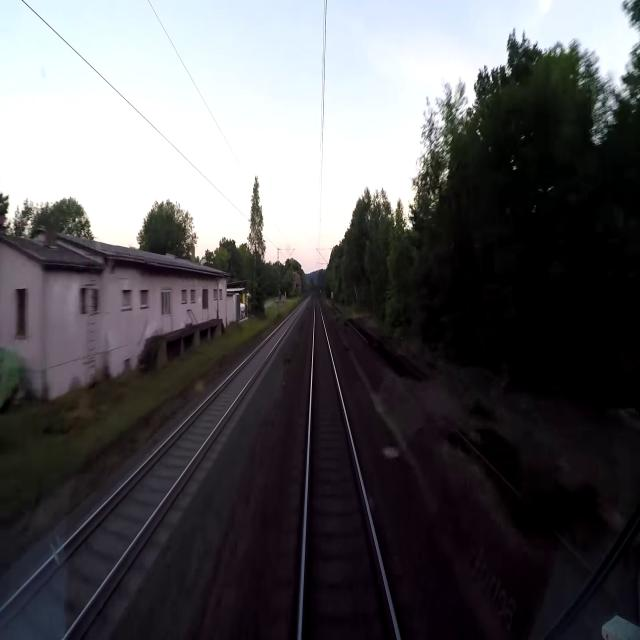rail-track: (0, 305, 302, 639), (342, 313, 613, 562), (302, 302, 396, 639)
